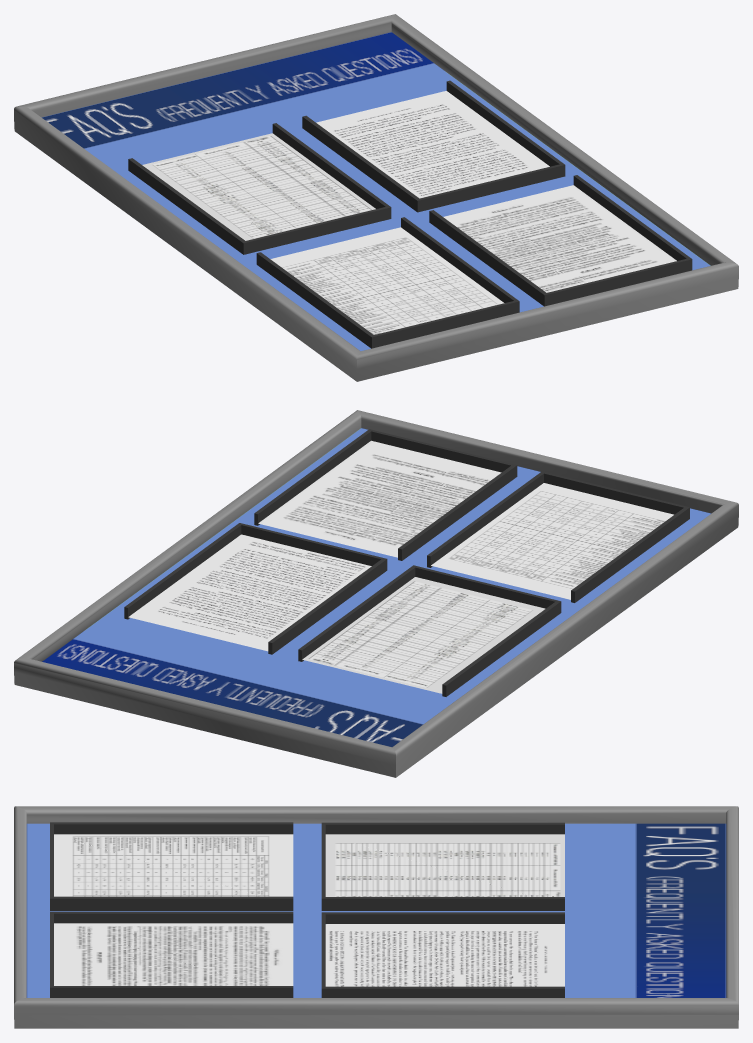
The model's file is Poster03_3.FBX.
The picture shows the model from 3 angles, top to bottom: view 1: azimuth 30°, elevation 25°; view 2: azimuth 150°, elevation 25°; view 3: azimuth 270°, elevation 25°; orthographic projection. The views are drawn at different scales.
Parts seen in each view (by area): view 1: Poster03_3, Glass; view 2: Poster03_3, Glass; view 3: Poster03_3, Glass.
Boxes of the visible parts, left/top/right/bottom form: Poster03_3: left=14, top=14, right=738, bottom=381; Glass: left=142, top=91, right=676, bottom=334; Poster03_3: left=14, top=410, right=738, bottom=777; Glass: left=128, top=440, right=673, bottom=693; Poster03_3: left=14, top=806, right=738, bottom=1028; Glass: left=54, top=834, right=564, bottom=986.
Bounding box in the file's own units: 127 × 8.02 × 198.
